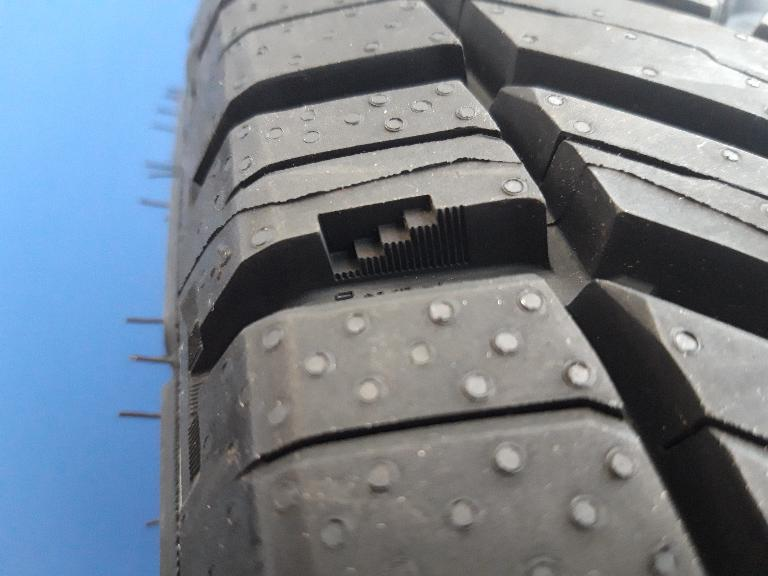temoin:100: (310, 190, 471, 288)
